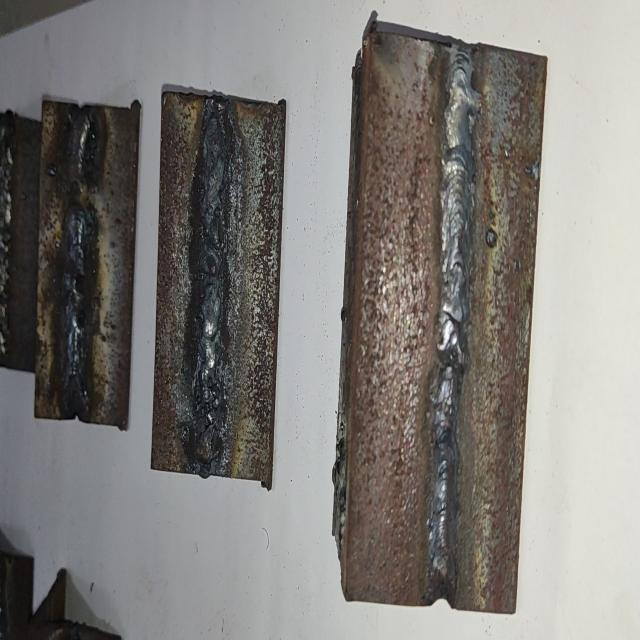Defect: (196, 170, 228, 464), (63, 298, 93, 416), (68, 155, 100, 228)
Welding Line: (432, 51, 478, 594), (198, 112, 228, 468), (66, 110, 94, 410), (0, 128, 13, 362)
Workpiece: (326, 13, 556, 620), (147, 84, 290, 484), (30, 96, 145, 428), (0, 106, 50, 377)
